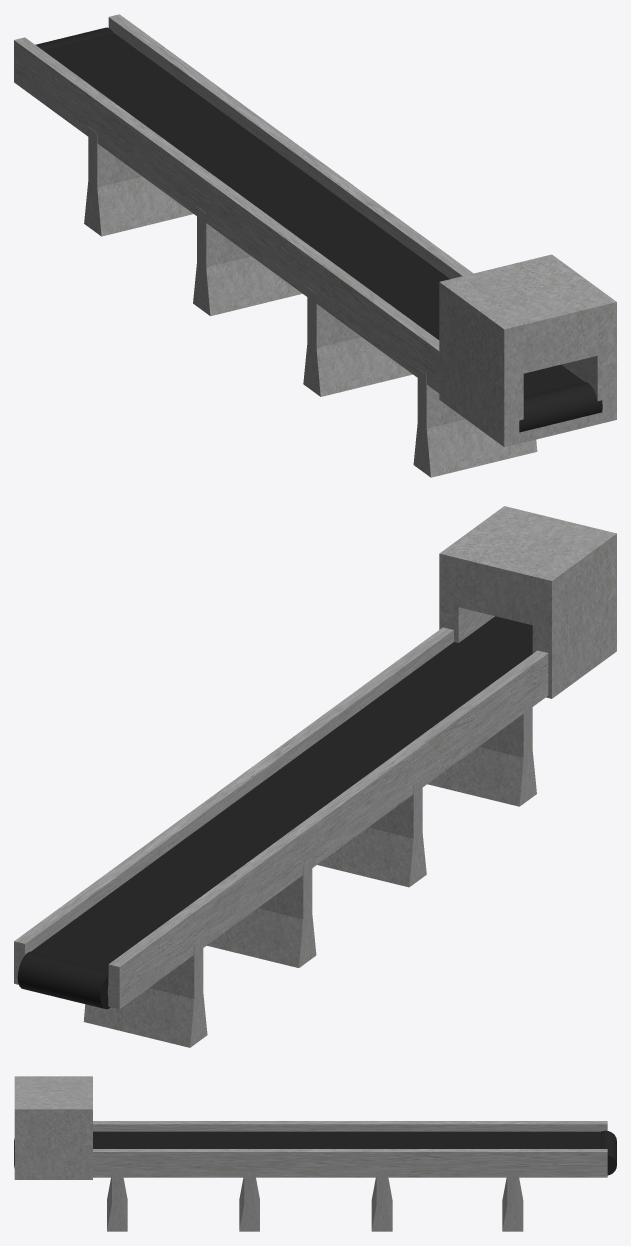
The model's file is Förderband.fbx.
The picture shows the model from 3 angles, top to bottom: view 1: azimuth 30°, elevation 25°; view 2: azimuth 150°, elevation 25°; view 3: azimuth 270°, elevation 25°; orthographic projection. The views are drawn at different scales.
Parts seen in each view (by area): view 1: pCube3, pCube7, pCube16, pCube18, pCube17, pCube8, pCylinder3; view 2: pCube3, pCube7, pCube18, pCube17, pCube16, pCube8, pCylinder4; view 3: pCube3, pCube7, pCube17, pCube18, pCube8, pCube16, pCylinder4.
Boxes of the visible parts, x1,y1,x2,y2 form: pCube3: (14, 14, 584, 396); pCube7: (439, 254, 616, 447); pCube16: (303, 287, 412, 396); pCube18: (84, 127, 193, 236); pCube17: (193, 206, 302, 316); pCube8: (413, 368, 537, 477); pCylinder3: (519, 382, 602, 432); pCube3: (14, 616, 548, 1009); pCube7: (439, 506, 616, 698); pCube18: (83, 938, 207, 1047); pCube17: (207, 859, 316, 967); pCube16: (317, 778, 426, 887); pCube8: (427, 697, 536, 806); pCylinder4: (17, 951, 110, 1009); pCube3: (93, 1121, 607, 1177); pCube7: (14, 1076, 92, 1179); pCube17: (371, 1171, 392, 1231); pCube18: (502, 1171, 523, 1231); pCube8: (107, 1171, 127, 1231); pCube16: (239, 1171, 259, 1231); pCylinder4: (601, 1130, 616, 1175).
Bounding box in the file's own units: 5.33 × 9.28 × 41.19.
2 materials, 1 textured.
